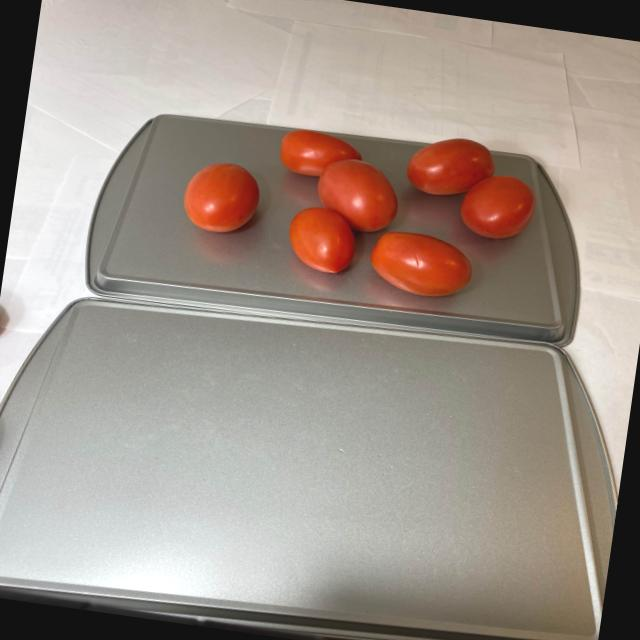tomato: (163, 100, 550, 316)
